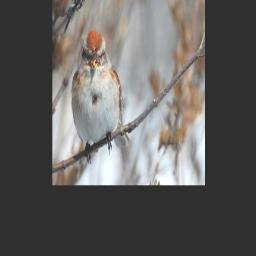Sparrow: (70, 27, 132, 168)
